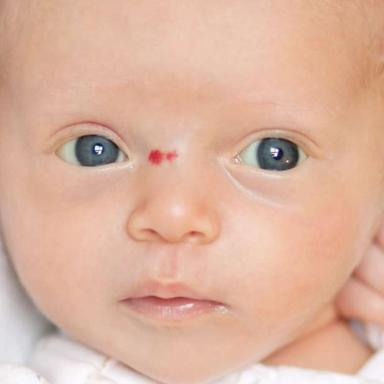Hemangiome: (149, 149, 179, 165)
